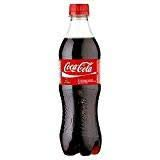HDPE Cap: (69, 4, 89, 16)
PET Bottle: (59, 3, 103, 157)
PVC Label: (60, 58, 101, 85)
